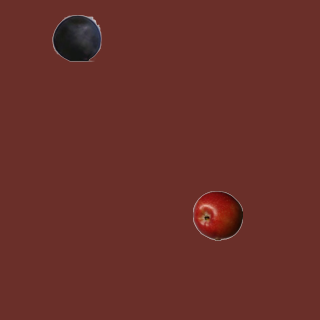Apple Braeburn: (192, 190, 242, 240)
Grape Blue: (51, 12, 101, 62)
